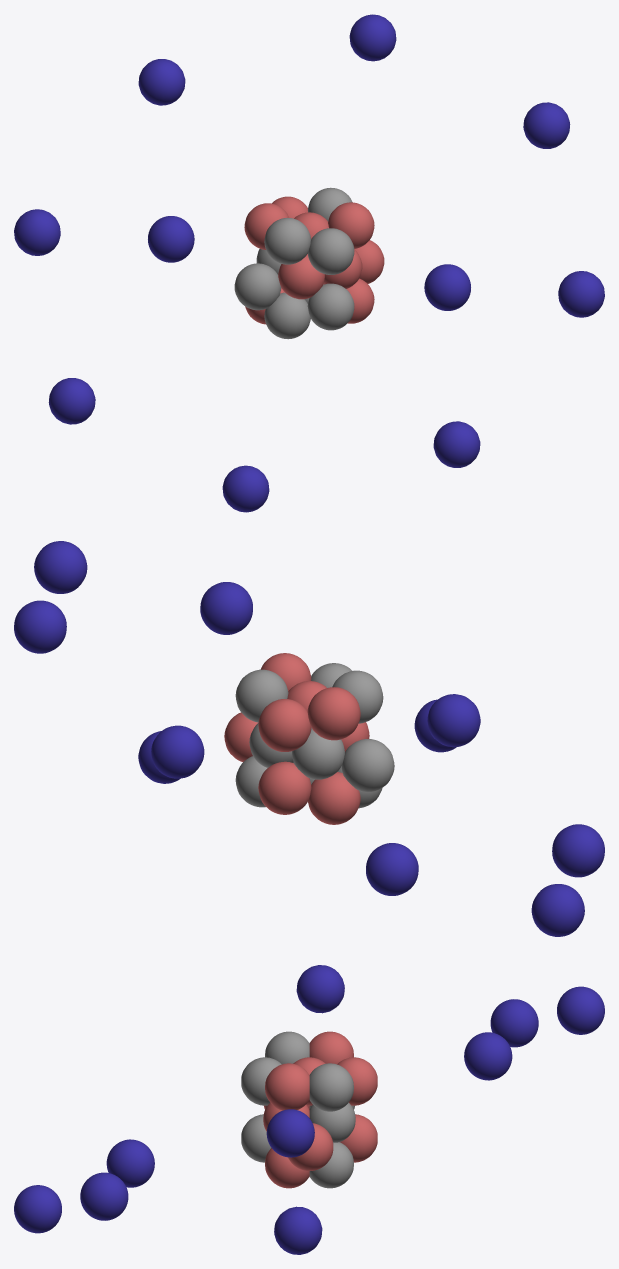
The model's file is NeonAtomicStructure.fbx.
3 renders of one model, top to bottom at view 1: azimuth 30°, elevation 25°; view 2: azimuth 150°, elevation 25°; view 3: azimuth 270°, elevation 25°, orthographic. The views are drawn at different scales.
Visible parts, largest first — view 1: Electron1, Electron2, Electron7, Electron10, Neutron8, Electron8, Electron9, Electron5, Electron6, Electron3, Electron4, Neutron4 (+10 smaller); view 2: Electron6, Electron7, Electron10, Electron3, Electron4, Electron8, Electron9, Proton8, Electron1, Proton5, Neutron10, Proton4 (+12 smaller); view 3: Electron3, Electron5, Electron6, Electron10, Electron9, Electron1, Electron2, Neutron9, Proton9, Electron8, Electron7, Neutron7 (+9 smaller).
Boxes of the visible parts, x1,y1,x2,y2 form: Electron1: (148, 216, 194, 262); Electron2: (424, 264, 470, 310); Electron7: (222, 465, 269, 512); Electron10: (349, 14, 396, 61); Neutron8: (264, 217, 311, 264); Electron8: (14, 209, 60, 255); Electron9: (558, 271, 604, 317); Electron5: (433, 421, 480, 467); Electron6: (138, 59, 185, 105); Electron3: (523, 102, 570, 148); Electron4: (48, 378, 95, 424); Neutron4: (308, 228, 354, 274); Electron6: (151, 725, 204, 778); Electron7: (552, 824, 604, 877); Electron10: (14, 600, 66, 653); Electron3: (34, 541, 87, 593); Electron4: (531, 884, 584, 936); Electron8: (366, 843, 418, 895); Electron9: (200, 582, 252, 634); Proton8: (307, 687, 360, 740); Electron1: (427, 694, 480, 747); Proton5: (258, 699, 311, 751); Neutron10: (341, 739, 394, 791); Proton4: (258, 761, 311, 814); Electron3: (266, 1109, 314, 1157); Electron5: (14, 1185, 61, 1233); Electron6: (557, 986, 604, 1034); Electron10: (464, 1032, 512, 1080); Electron9: (80, 1172, 128, 1220); Electron1: (296, 965, 344, 1013); Electron2: (274, 1206, 322, 1254); Neutron9: (309, 1063, 353, 1111); Proton9: (265, 1063, 309, 1110); Electron8: (490, 999, 538, 1047); Electron7: (106, 1139, 154, 1187); Neutron7: (309, 1142, 353, 1188).
Bounding box in the file's own units: 24.44 × 13.78 × 24.44.
